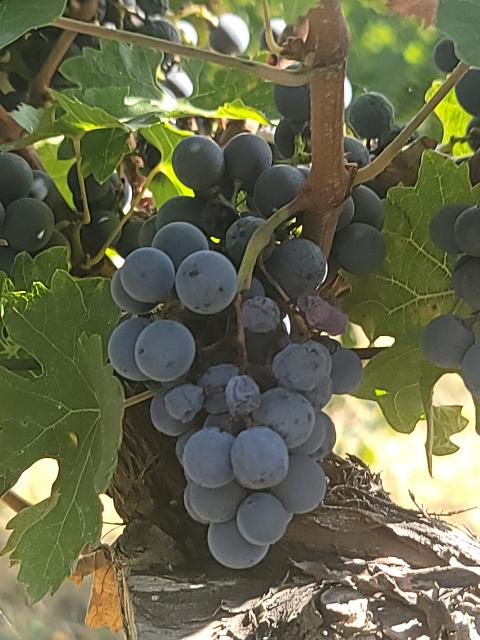grapes: (109, 136, 362, 569)
